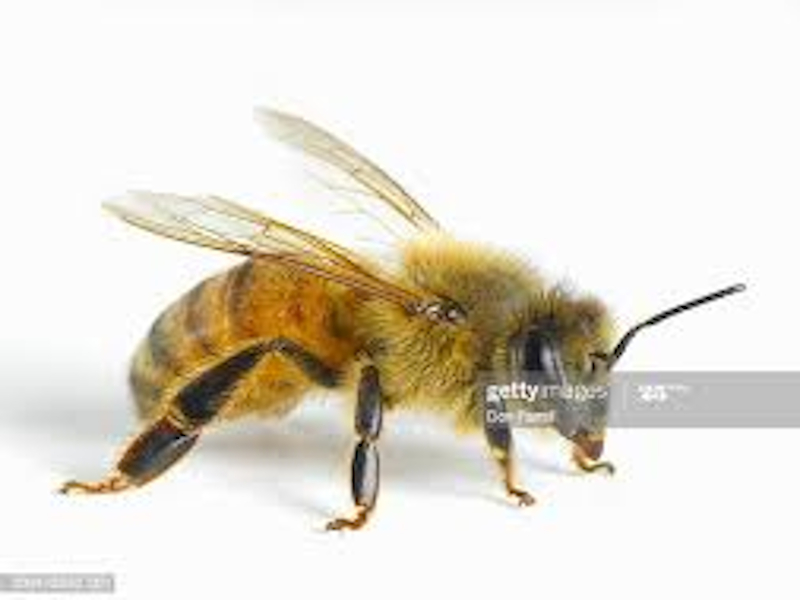abeja: (56, 88, 763, 549)
